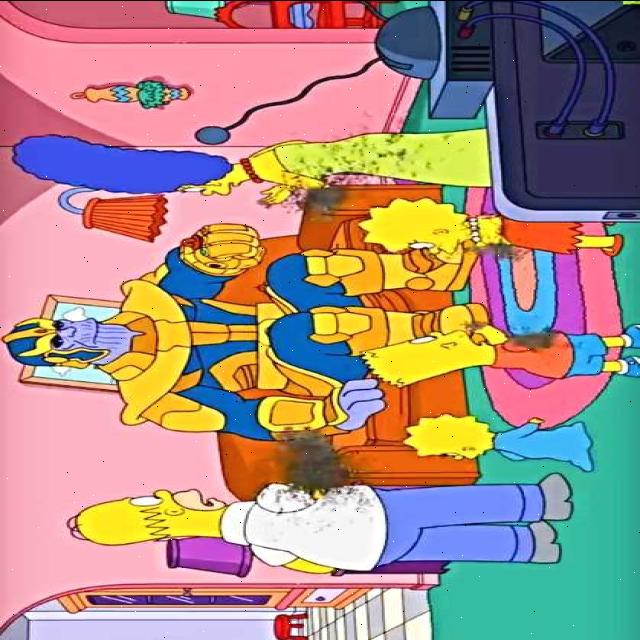Bart Simpson: (356, 326, 502, 388)
Homer Simpson: (61, 486, 232, 546)
Lisa Simpson: (352, 195, 486, 256)
Maggie Simpson: (400, 408, 500, 461)
Marge Simpson: (7, 131, 262, 196)
